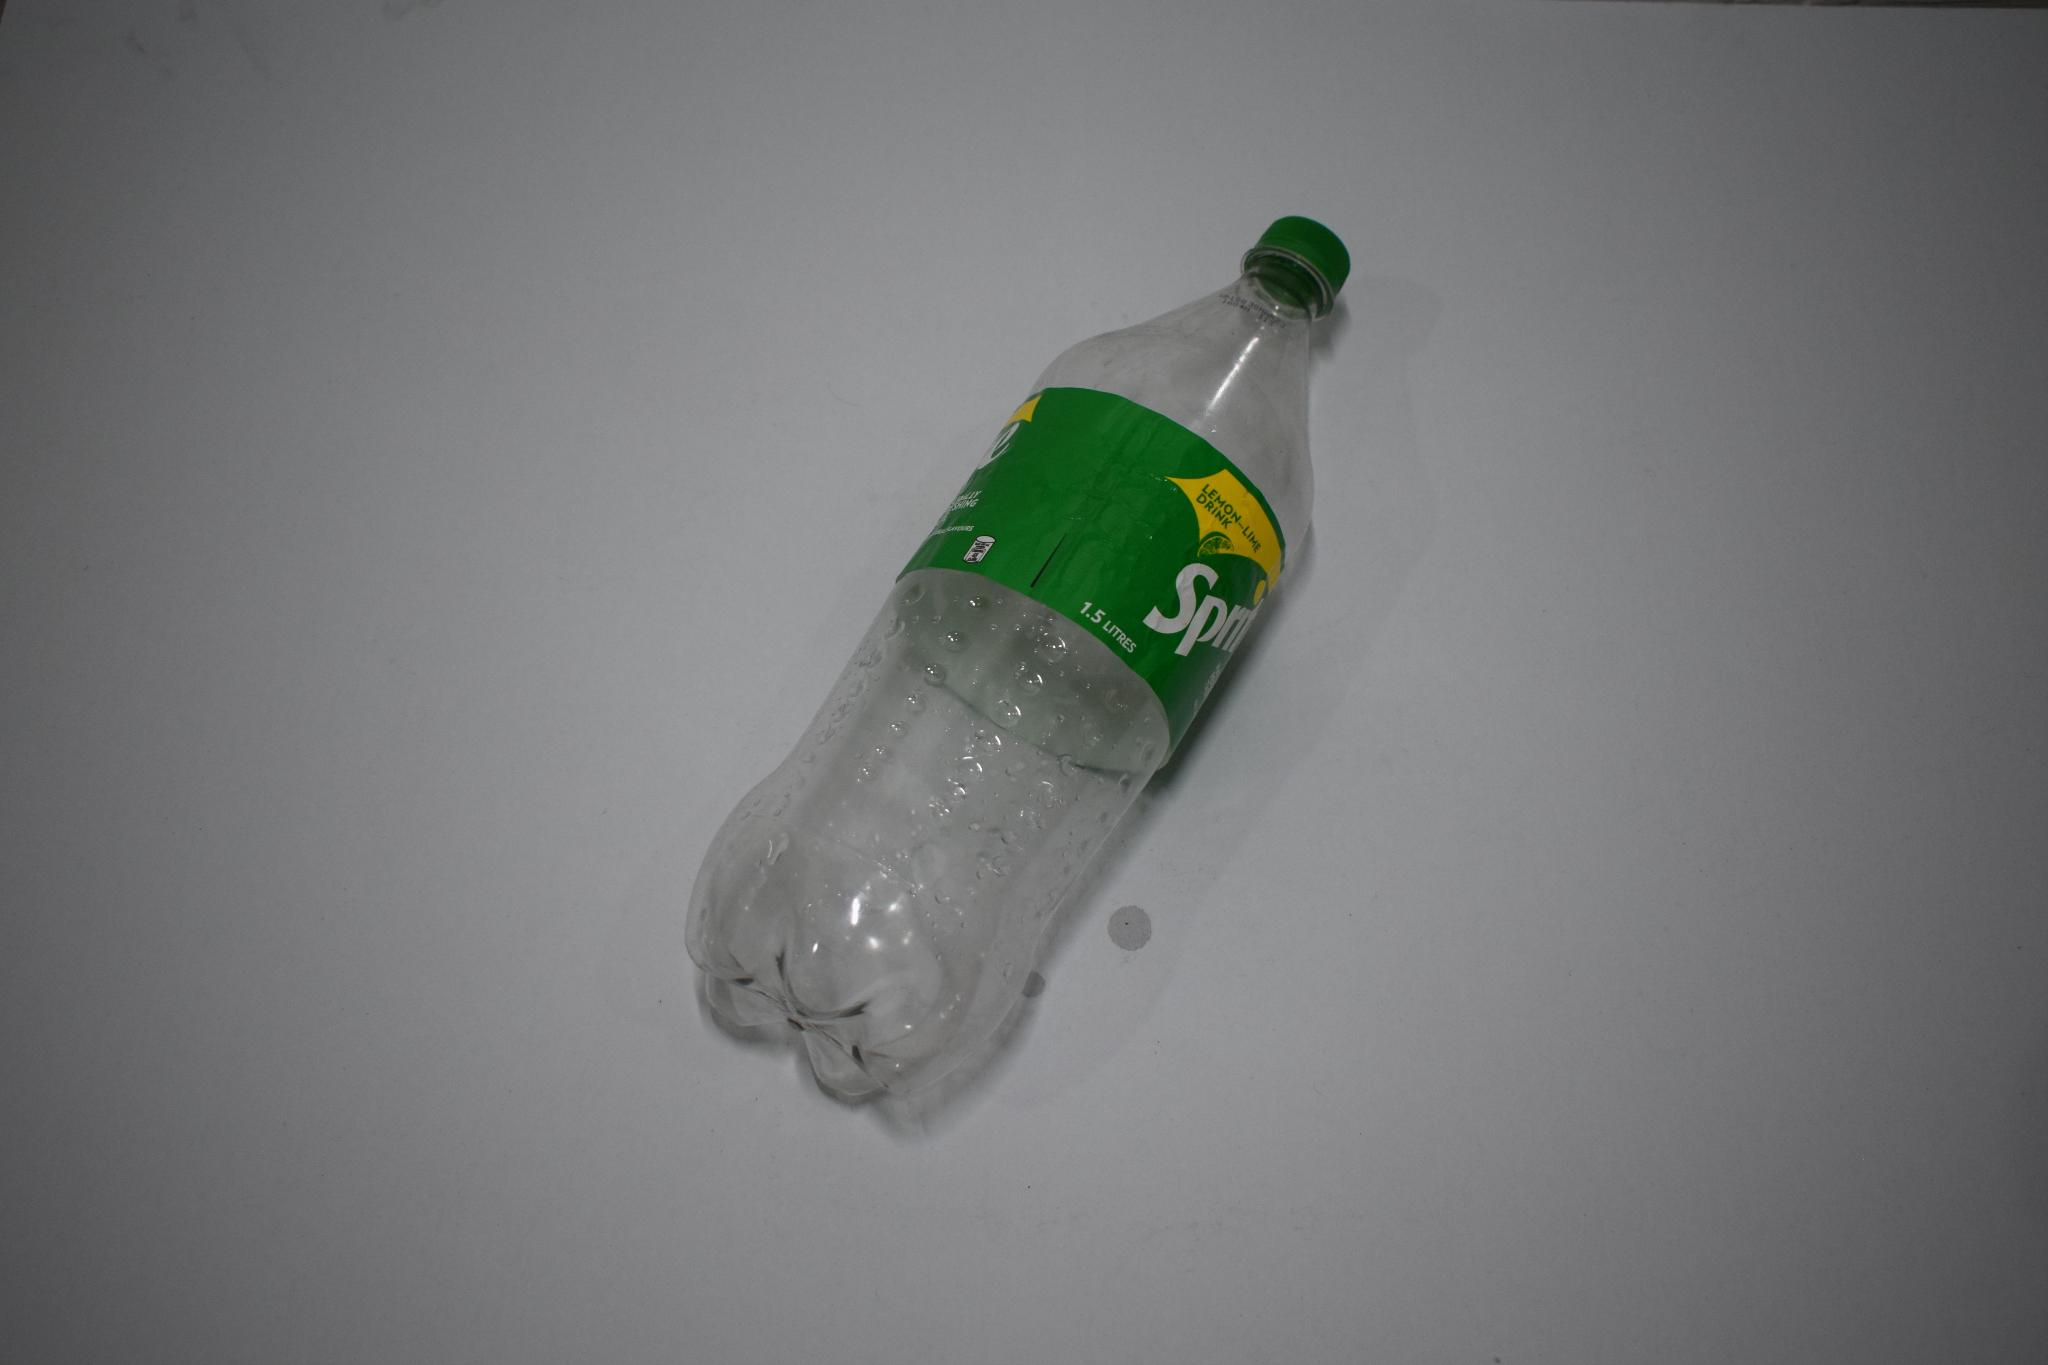bottle: (684, 207, 1358, 1109)
